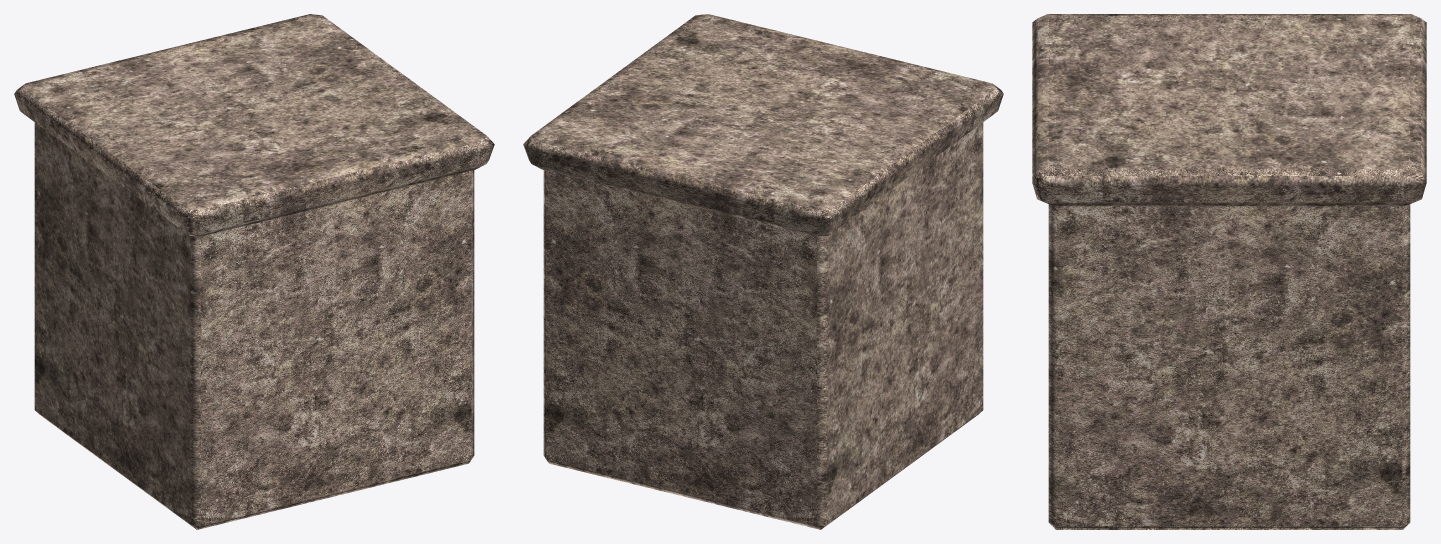
The model's file is Poller.gltf.
3 views of the same model, side by side, from view 1: azimuth 30°, elevation 25°; view 2: azimuth 150°, elevation 25°; view 3: azimuth 270°, elevation 25° (orthographic). The views are drawn at different scales.
Visible parts, largest first — view 1: Poller; view 2: Poller; view 3: Poller.
Boxes of the visible parts, x1=… form: Poller: x1=14, y1=14, x2=494, y2=529; Poller: x1=523, y1=14, x2=1003, y2=529; Poller: x1=1032, y1=14, x2=1426, y2=529.
Size of the model in its own units: 2.18 by 2.22 by 2.18.
Materials: 1 (1 with a texture image).
